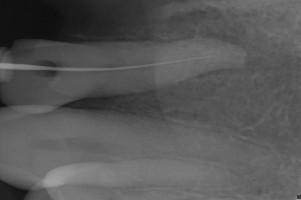Furcation Involvement: (193, 33, 265, 80)
